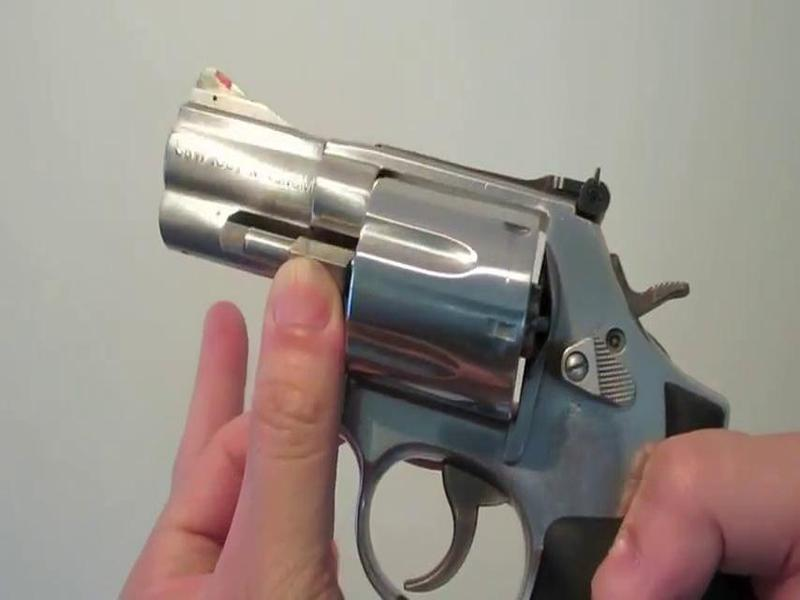Revolver: (139, 60, 735, 600)
